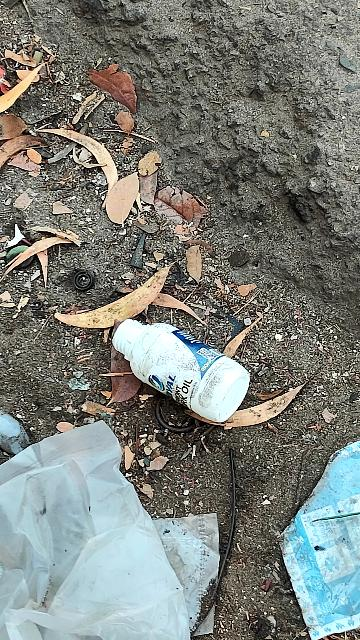bottle: (89, 283, 263, 435)
